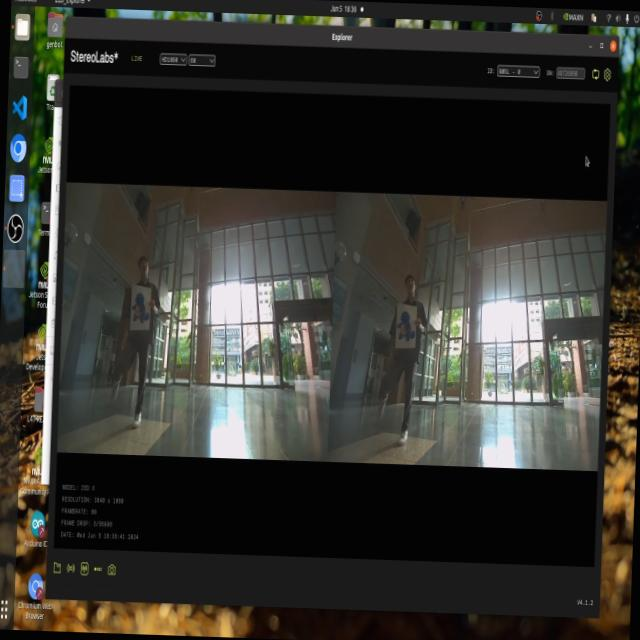blue: (130, 291, 153, 328), (398, 310, 416, 348)
